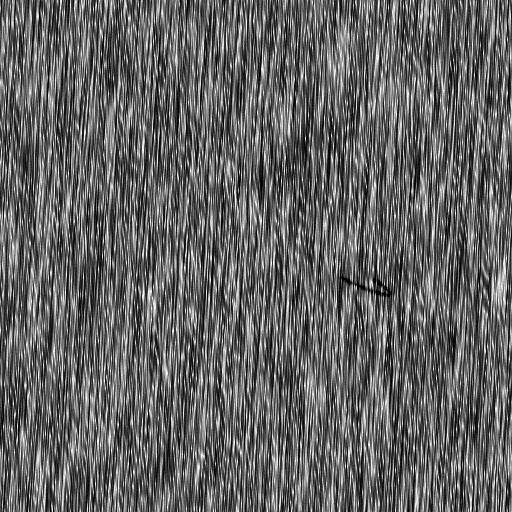DefectTypeC: (340, 272, 396, 296)
